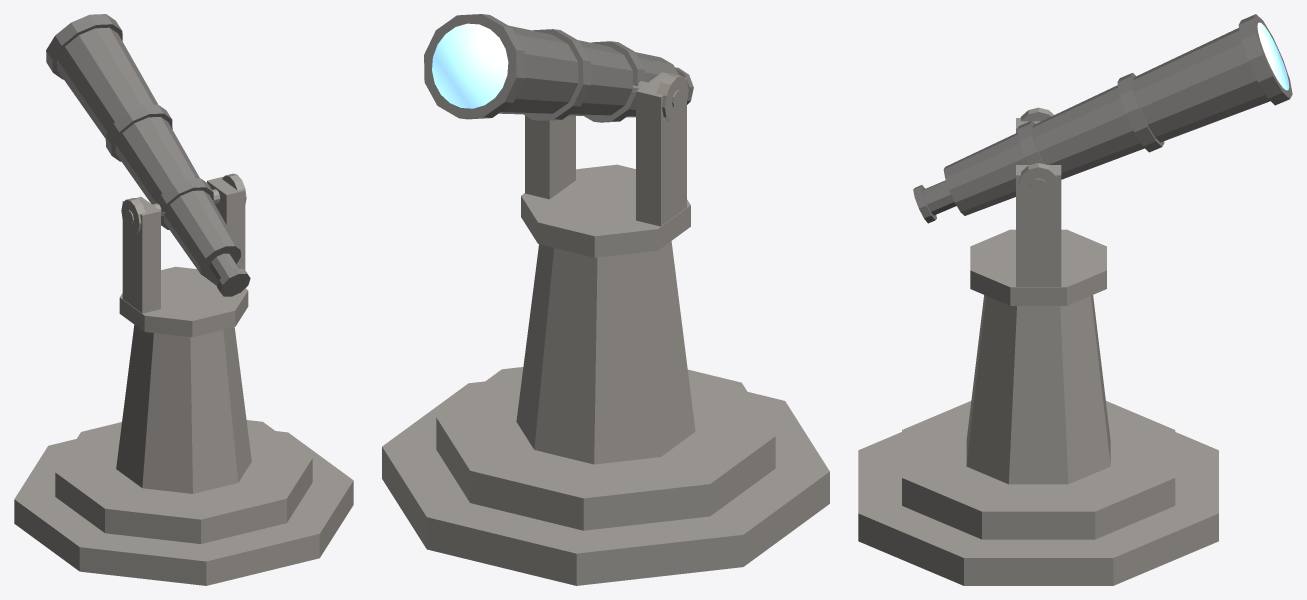
File: StoneTelescope.glb
The picture shows the model from 3 angles, left to right: view 1: azimuth 30°, elevation 25°; view 2: azimuth 150°, elevation 25°; view 3: azimuth 270°, elevation 25°; orthographic projection. The views are drawn at different scales.
Visible parts, largest first — view 1: Telescope_Base, Telescope_Tube; view 2: Telescope_Base, Telescope_Tube, Telescope_Lens; view 3: Telescope_Base, Telescope_Tube, Telescope_Lens.
Boxes of the visible parts, <box> form: Telescope_Base: <box>14,173,353,585</box>; Telescope_Tube: <box>46,14,250,296</box>; Telescope_Base: <box>382,72,829,585</box>; Telescope_Tube: <box>424,14,693,122</box>; Telescope_Lens: <box>432,23,508,108</box>; Telescope_Base: <box>858,107,1218,585</box>; Telescope_Tube: <box>913,14,1292,223</box>; Telescope_Lens: <box>1257,22,1289,90</box>.
Bounding box in the file's own units: 1.76 × 2.64 × 2.11.
